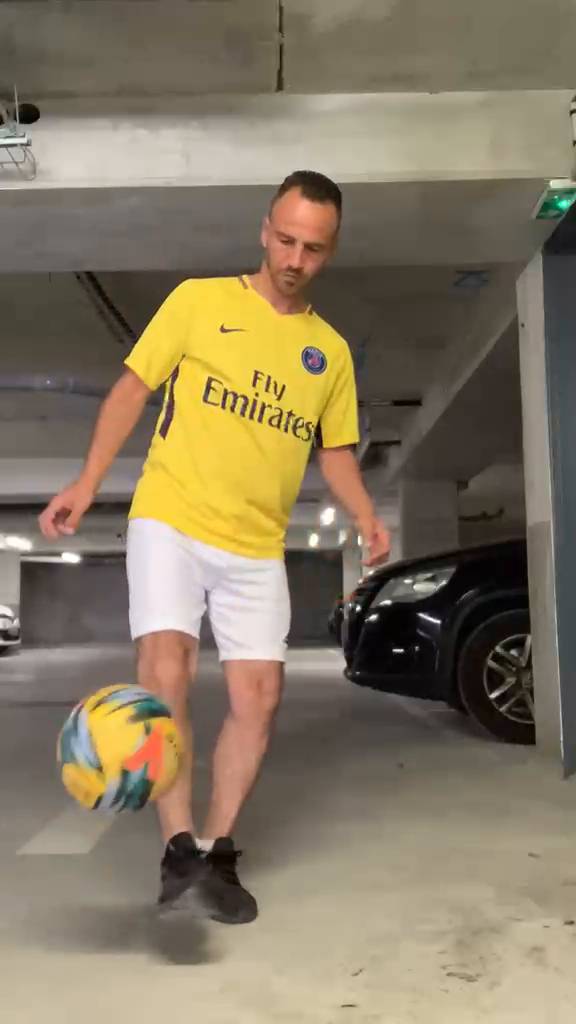ball: (54, 683, 183, 813)
